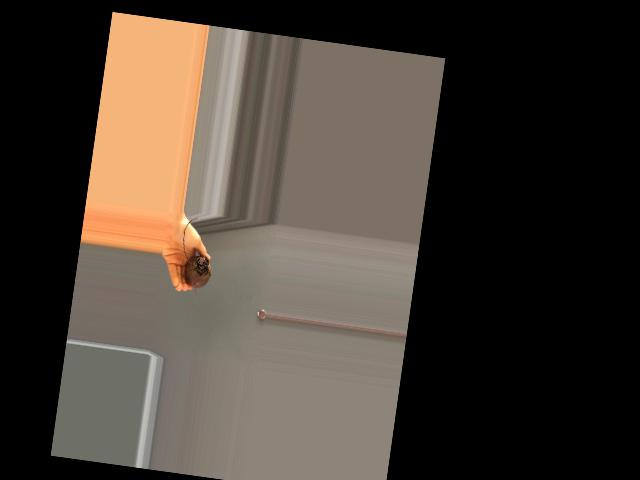beet: (174, 217, 217, 297)
